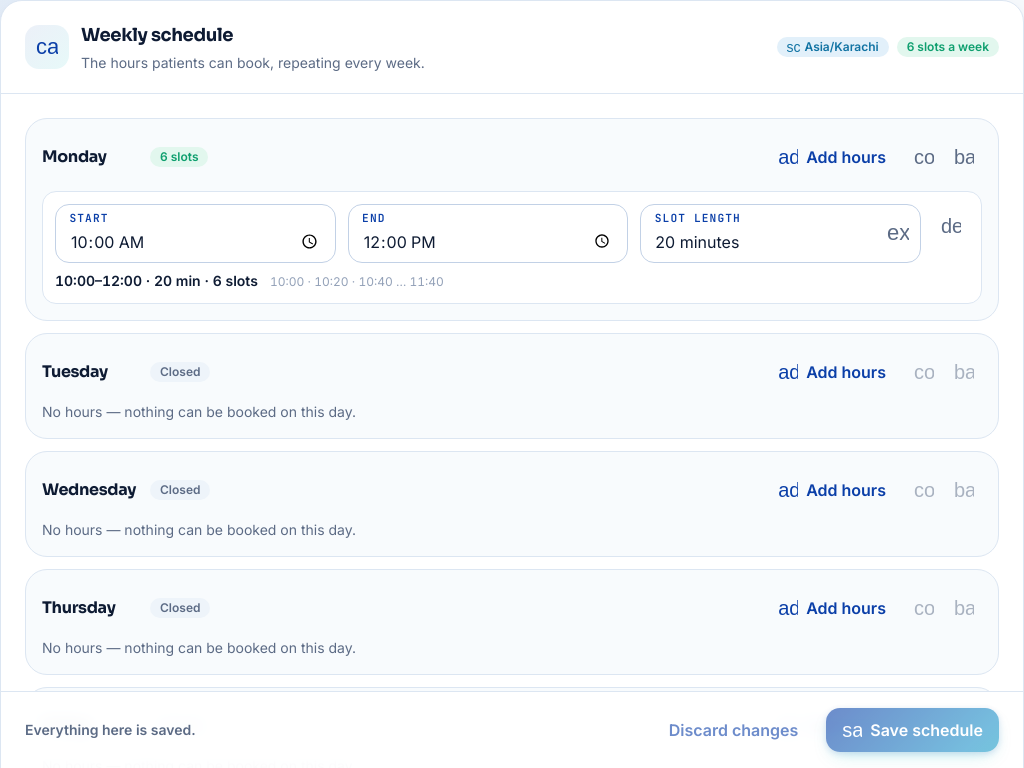
Scenario: copying one day onto others › applies the source day's hours to every day chosen
The width and height of the screenshot is (1024, 768).
Click the button named "Copy Monday to other days" at (924, 157), box [906,139,942,175]
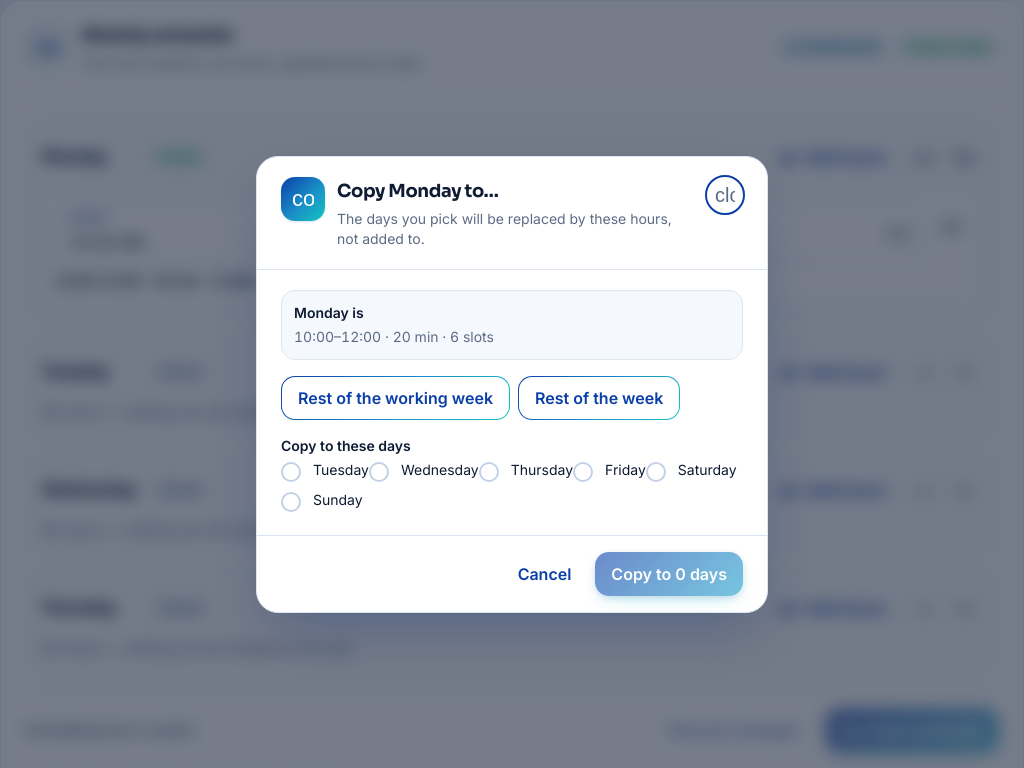
Click the button "Rest of the working week" at (396, 398), box [281,376,510,420]
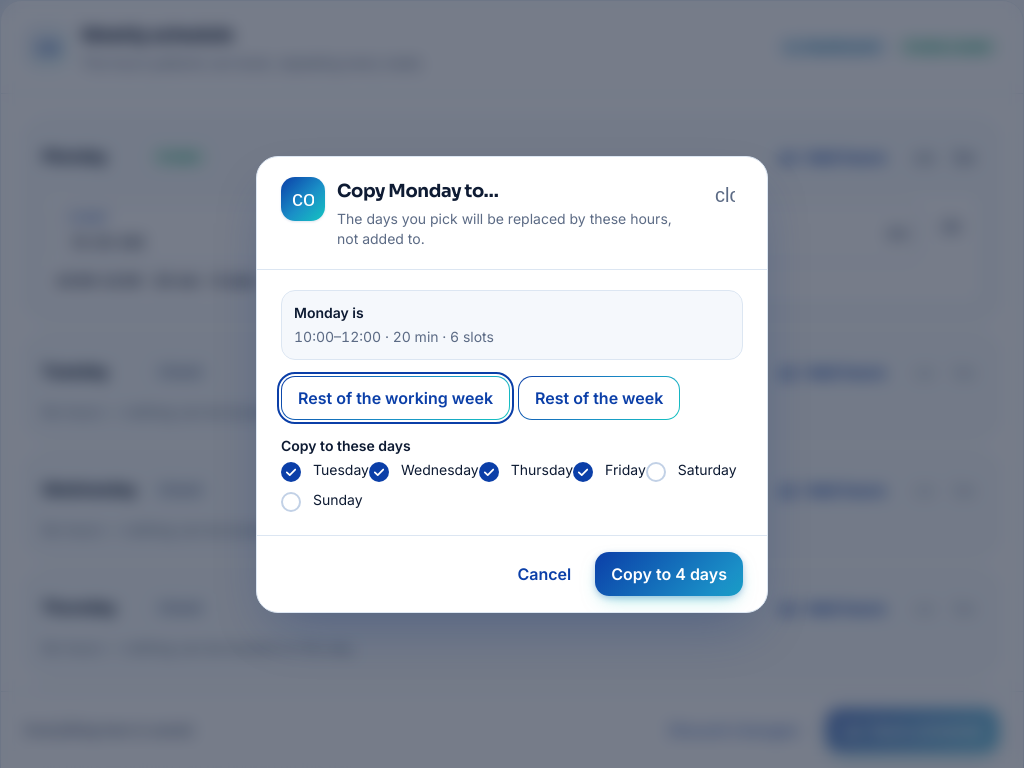
Click the button "Copy to 4 days" at (669, 574), box [595,552,743,596]
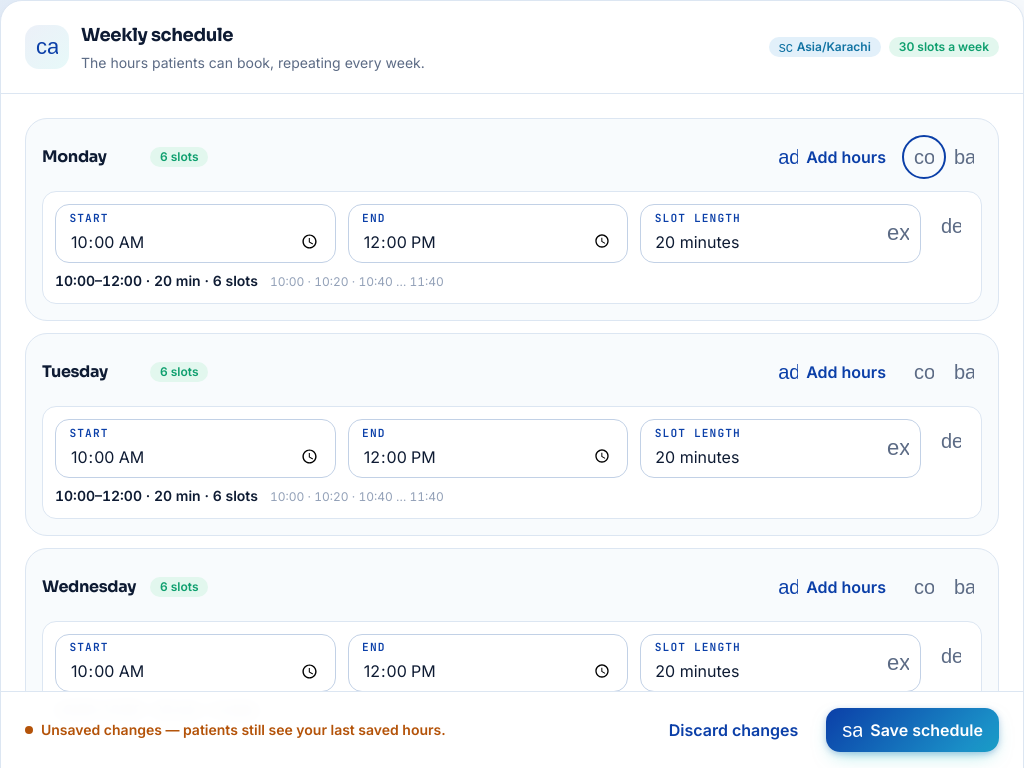
Result: the text "10:00–12:00 · 20 min · 6 slots" is shown 5 times
